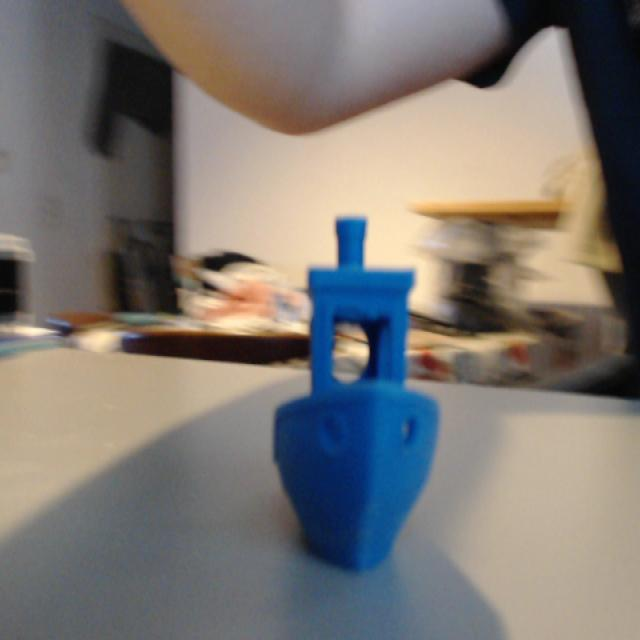benchy: (269, 211, 442, 572)
